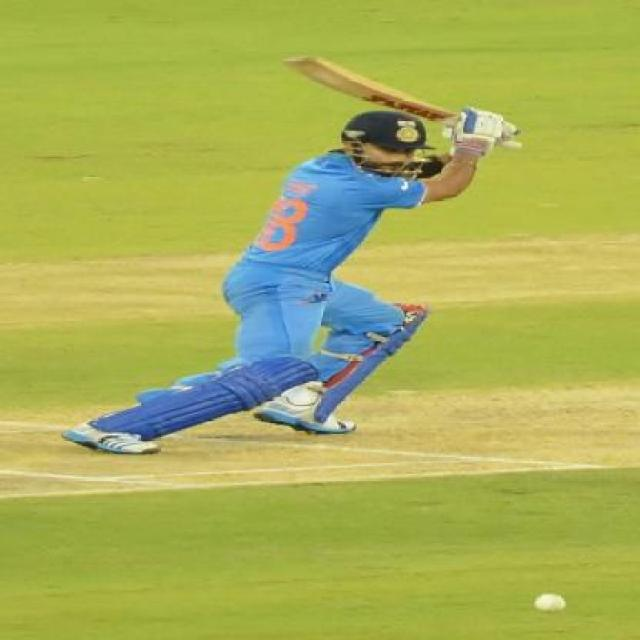ball: (504, 571, 585, 632)
